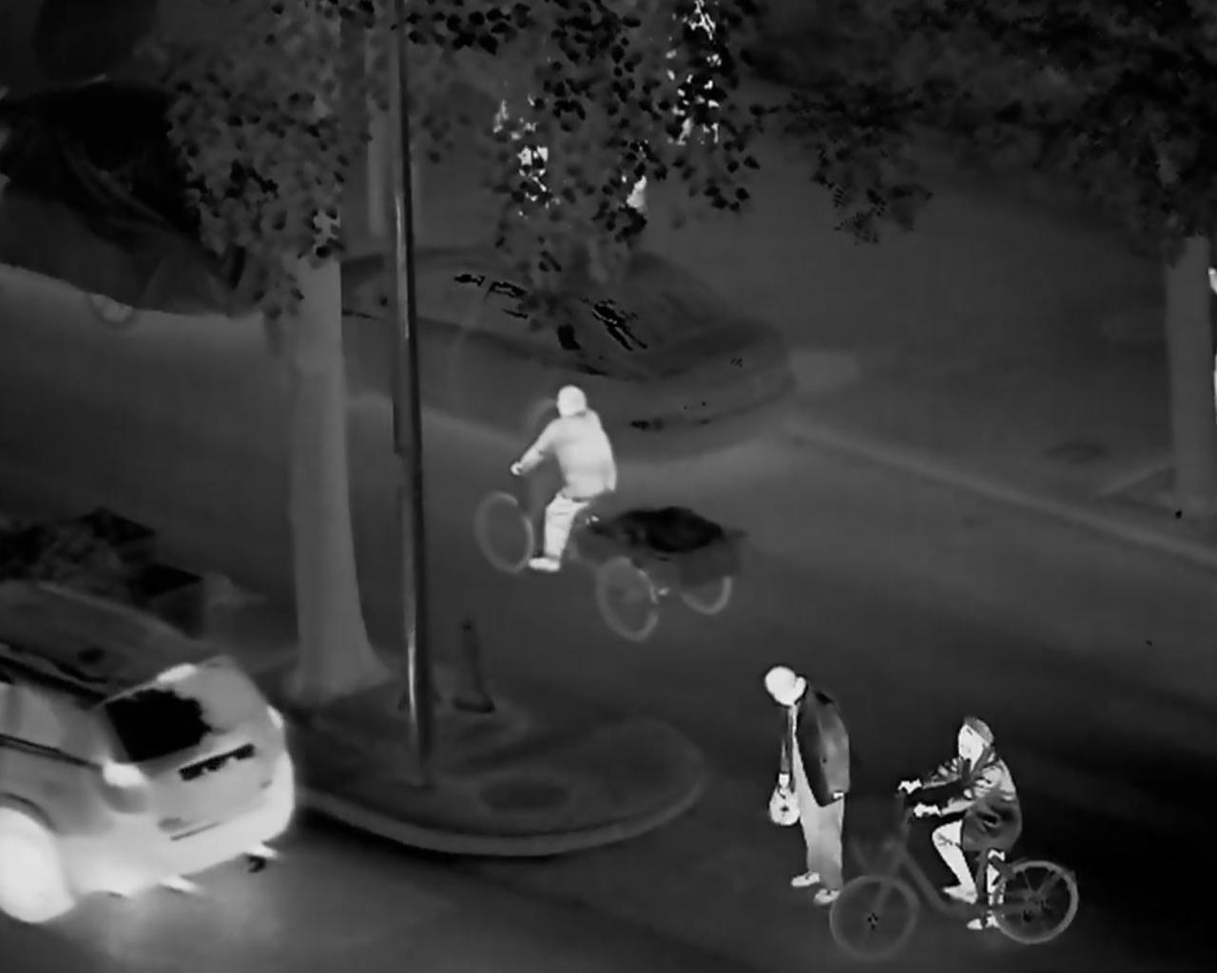person: (895, 717, 1020, 933), (763, 662, 850, 909), (512, 384, 616, 579)
